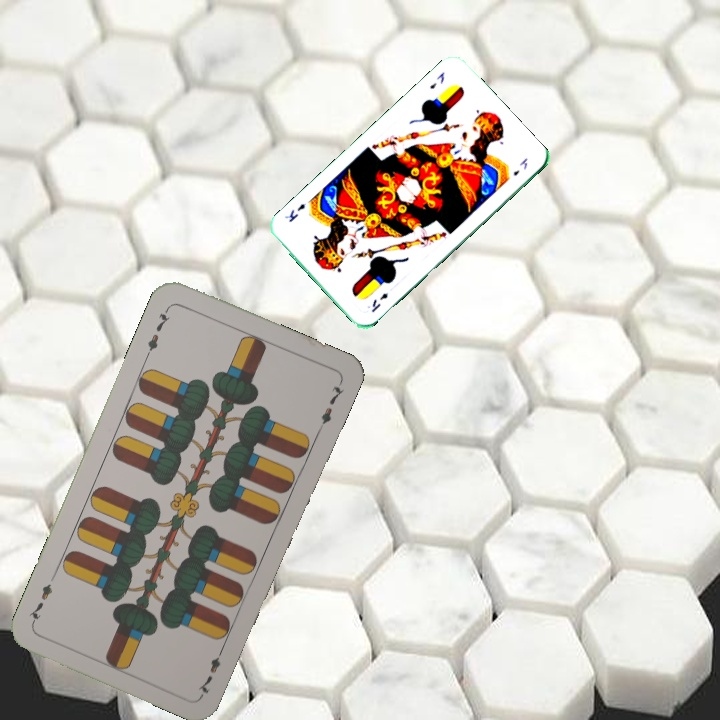E7: (193, 642, 227, 698), (142, 303, 173, 359)
EK: (367, 288, 391, 315), (426, 68, 447, 91)
